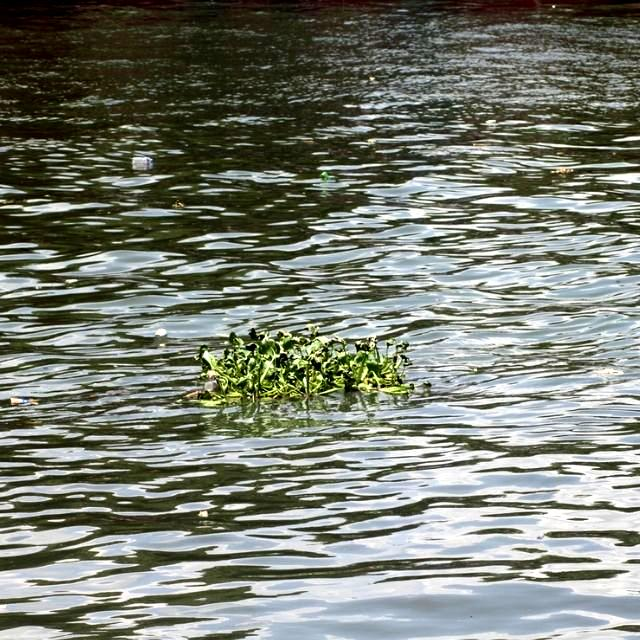plastic bottle: (130, 154, 154, 165)
water-hyacinth: (199, 329, 423, 417)
